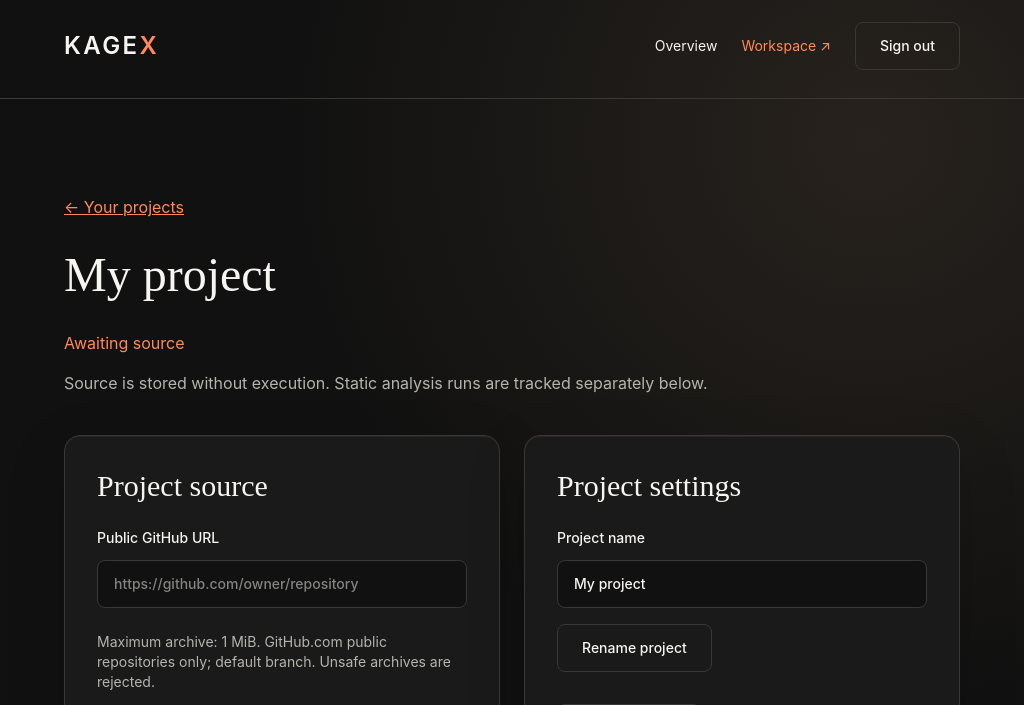
submits a public GitHub URL and displays source readiness
The image size is (1024, 705).
Type "https://github.com/octocat/Hello-World" into the field labelled "Public GitHub URL".
click(282, 584); type("https://github.com/octocat/Hello-World")  # box [97,560,467,608]
(page scrolled)
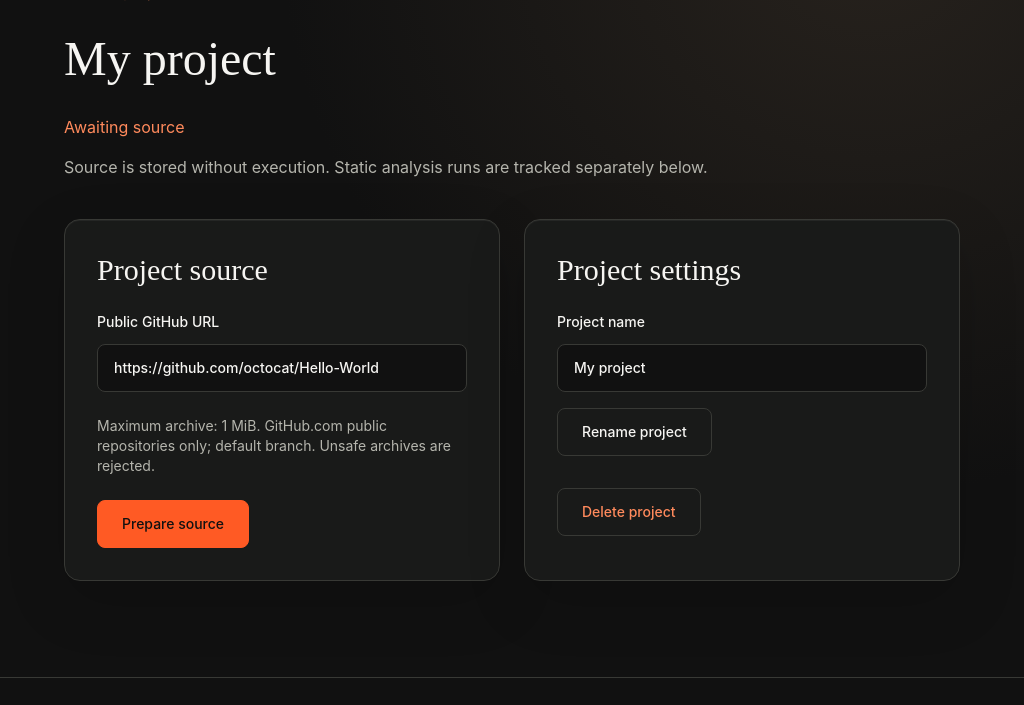
Click the button "Prepare source".
click(173, 524)  # box [97,500,249,548]
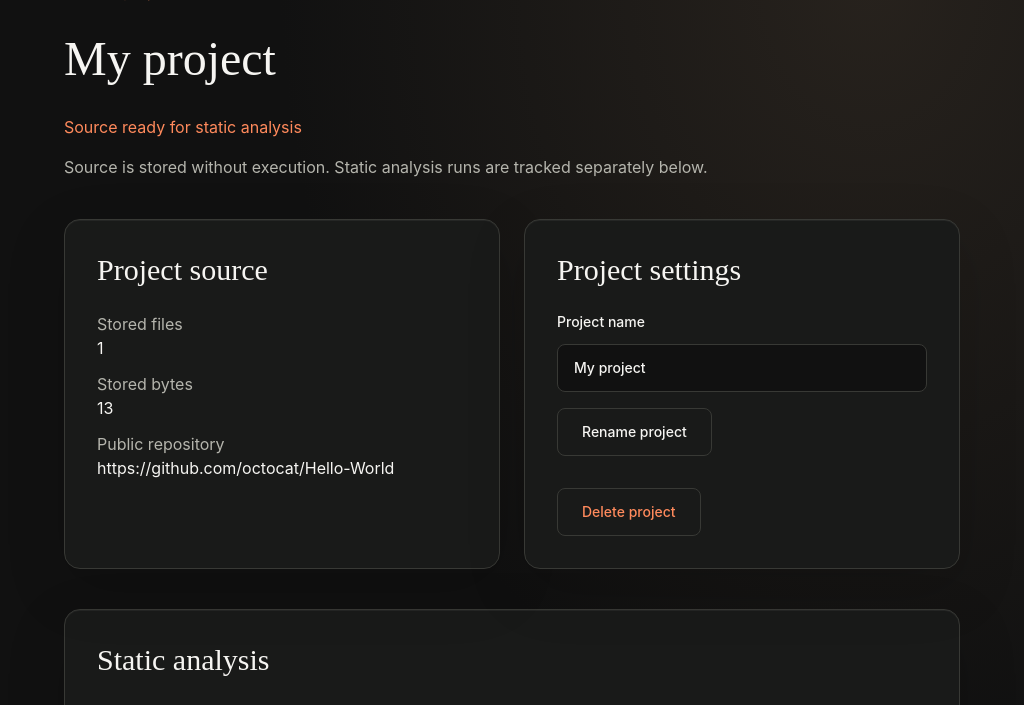
Now the text "Source ready for static analysis" is shown, box [64,117,302,137]
